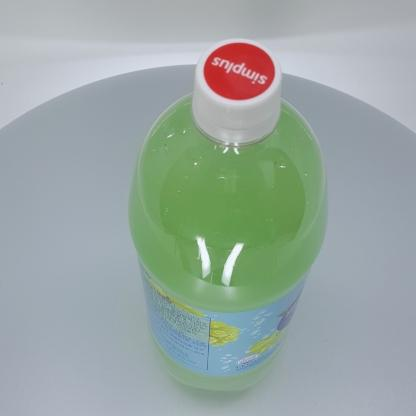---------------: (128, 38, 328, 391)
